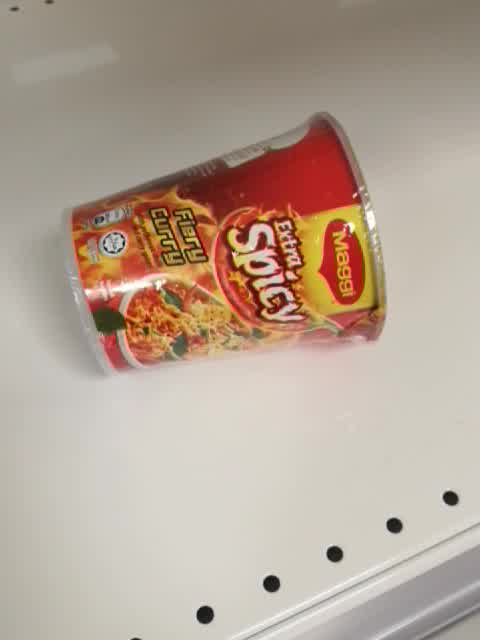maggi: (59, 110, 389, 377)
